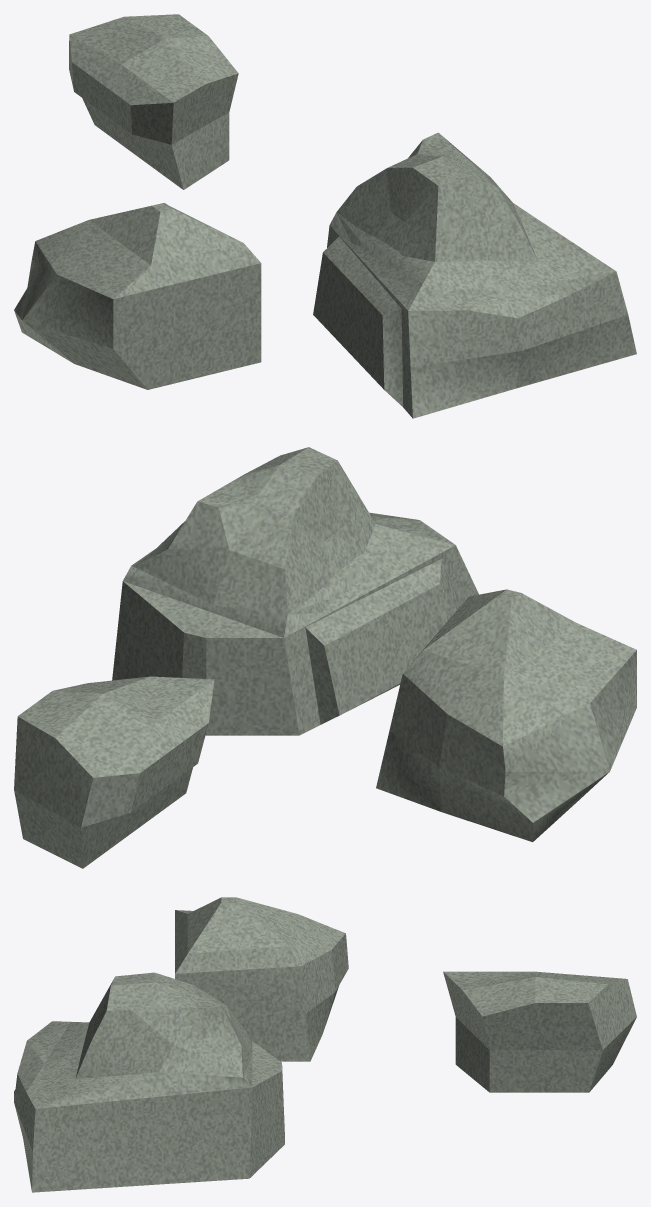
Rendered from ROCKS.fbx.
3 renders of one model, top to bottom at view 1: azimuth 30°, elevation 25°; view 2: azimuth 150°, elevation 25°; view 3: azimuth 270°, elevation 25°, orthographic. The views are drawn at different scales.
Parts seen in each view (by area): view 1: ROCKS, ROCKS_2, ROCKS_1; view 2: ROCKS, ROCKS_2, ROCKS_1; view 3: ROCKS, ROCKS_1, ROCKS_2.
Boxes of the visible parts, x1=… form: ROCKS: x1=313, y1=132, x2=636, y2=418; ROCKS_2: x1=14, y1=203, x2=261, y2=389; ROCKS_1: x1=69, y1=14, x2=238, y2=189; ROCKS: x1=112, y1=447, x2=478, y2=735; ROCKS_2: x1=376, y1=589, x2=636, y2=842; ROCKS_1: x1=14, y1=676, x2=214, y2=868; ROCKS: x1=14, y1=972, x2=284, y2=1192; ROCKS_1: x1=443, y1=971, x2=636, y2=1092; ROCKS_2: x1=175, y1=897, x2=348, y2=1061.
Bounding box in the file's own units: 380 × 135 × 486.
